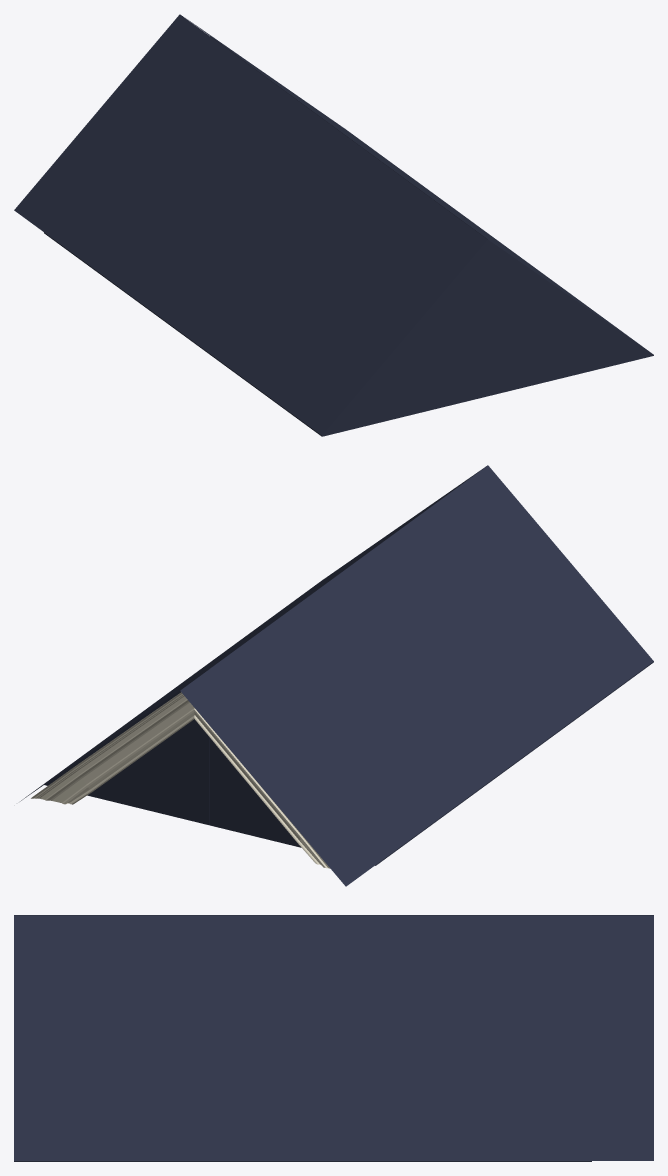
Rendered from roof4.glb.
The picture shows the model from 3 angles, top to bottom: view 1: azimuth 30°, elevation 25°; view 2: azimuth 150°, elevation 25°; view 3: azimuth 270°, elevation 25°; orthographic projection. The views are drawn at different scales.
Parts seen in each view (by area): view 1: Cornice Trim; view 2: Cornice Trim; view 3: Cornice Trim.
Part boxes in pixels (x1,y1,x2,y2): Cornice Trim: [14, 14, 653, 436]; Cornice Trim: [20, 465, 653, 886]; Cornice Trim: [14, 915, 653, 1161].
Size of the model in its own units: 12.39 by 5.59 by 19.92.
